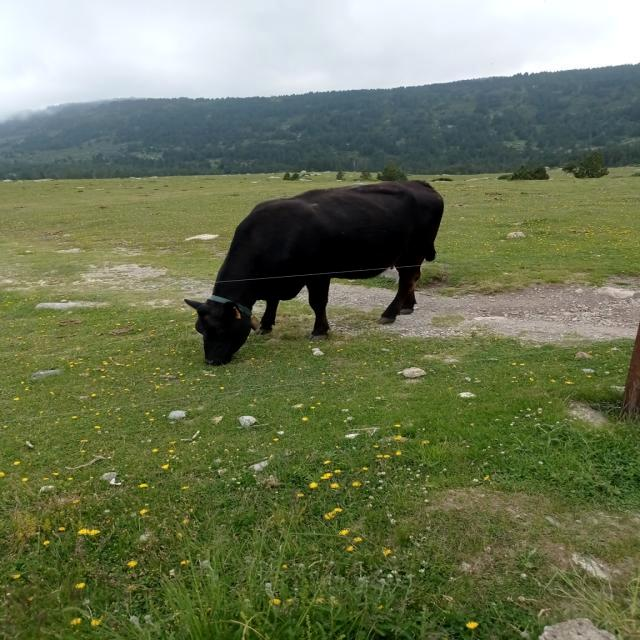COW: (185, 181, 444, 364)
